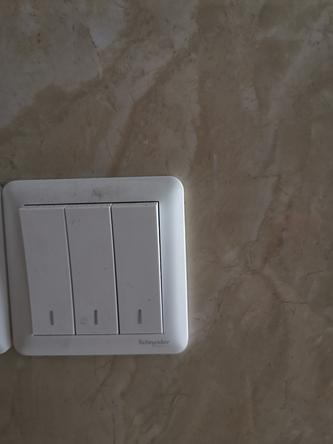switch: (60, 198, 128, 338), (101, 199, 169, 339), (13, 199, 77, 338)
